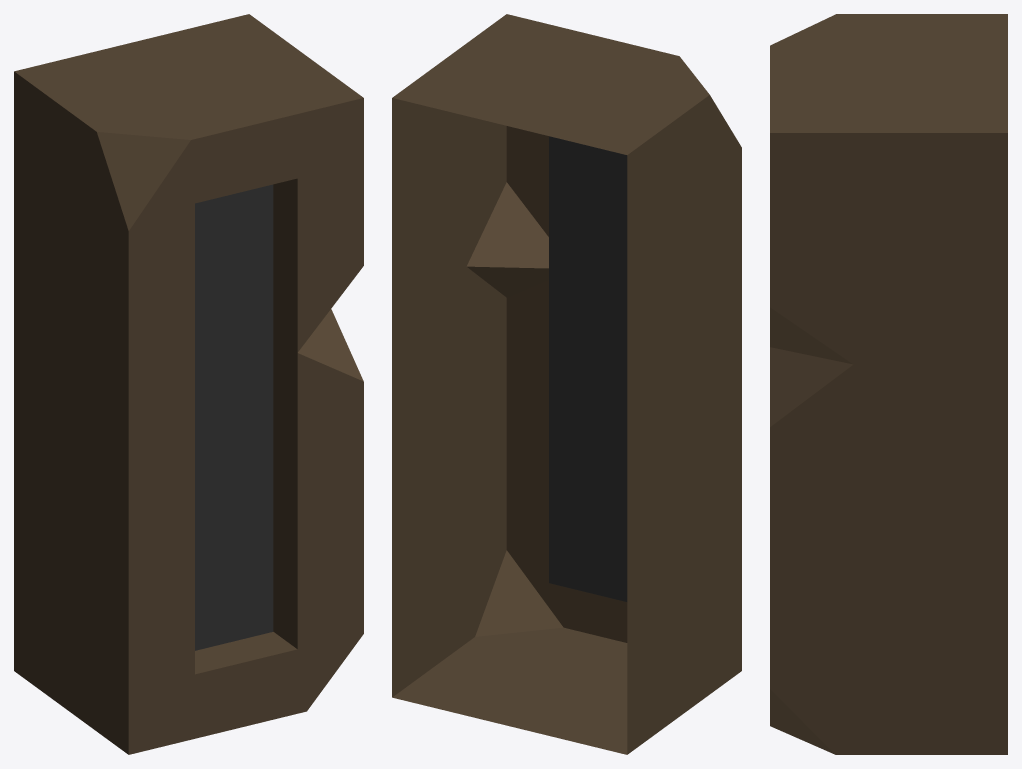
The model's file is SM_Bld_ArrowSlit_01.glb.
The picture shows the model from 3 angles, left to right: view 1: azimuth 30°, elevation 25°; view 2: azimuth 150°, elevation 25°; view 3: azimuth 270°, elevation 25°; orthographic projection. The views are drawn at different scales.
Parts seen in each view (by area): view 1: SM_Bld_ArrowSlit_01; view 2: SM_Bld_ArrowSlit_01; view 3: SM_Bld_ArrowSlit_01.
Part boxes in pixels (x1,y1,x2,y2): SM_Bld_ArrowSlit_01: (14, 14, 363, 754); SM_Bld_ArrowSlit_01: (392, 14, 741, 754); SM_Bld_ArrowSlit_01: (770, 14, 1007, 754).
Size of the model in its own units: 0.3658 by 0.8916 by 0.3089.
Materials: 1 (1 with a texture image).
